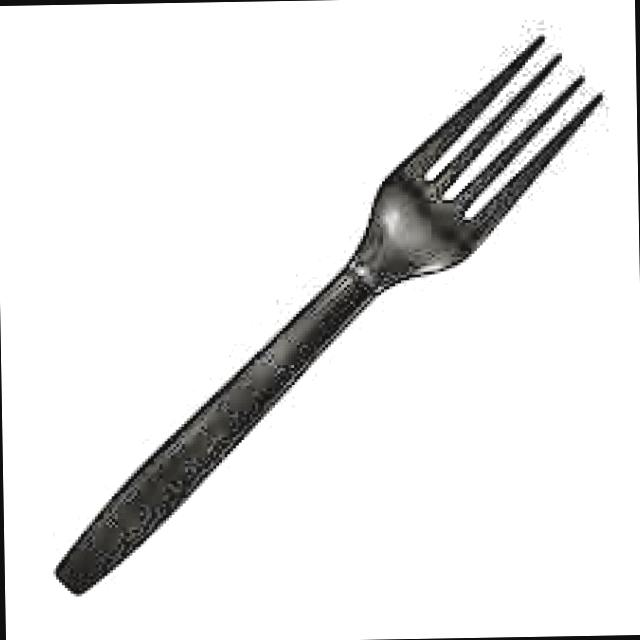plastic utensil: (56, 37, 599, 592)
